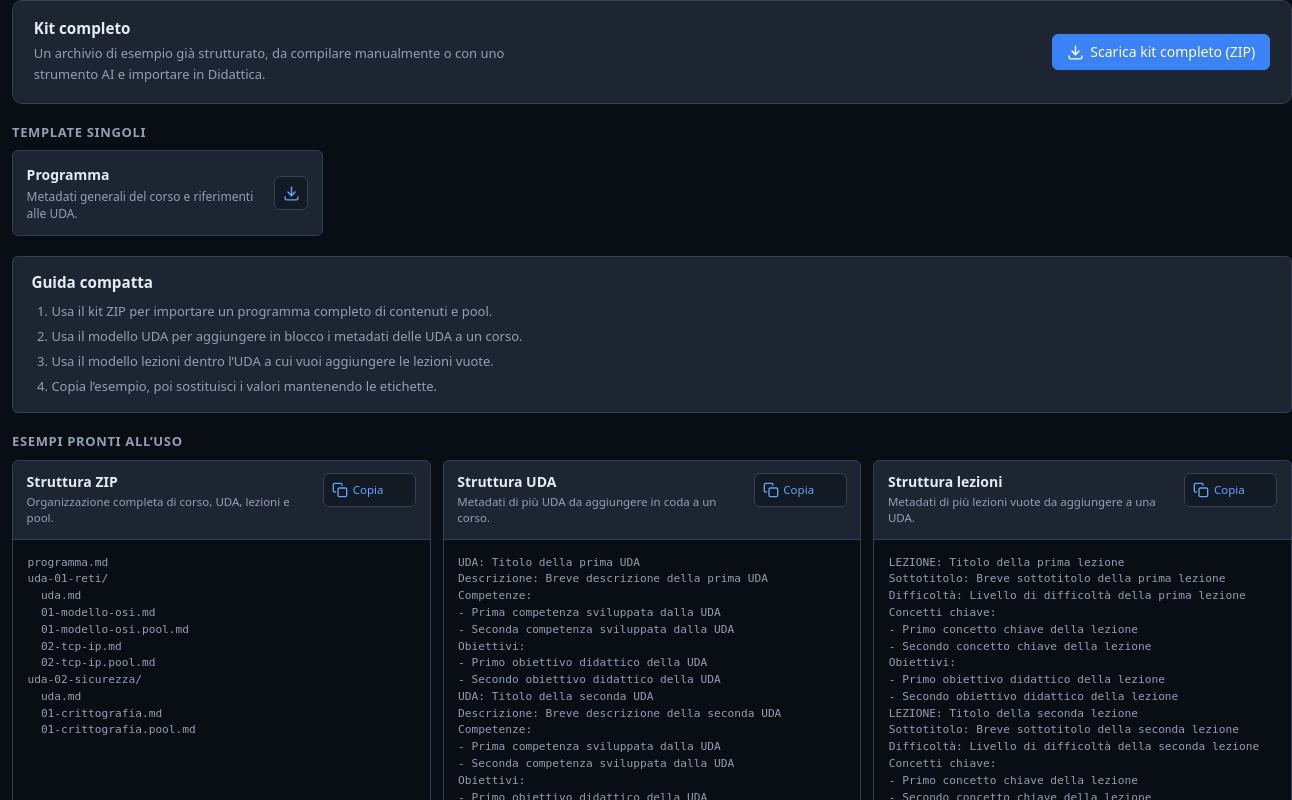
l’esito vive nel pulsante della card interessata › successo lezioni: solo quel pulsante cambia
Click the button "Copia" in the row of "Struttura lezioni": x=1231, y=490 [1184,473,1277,507]
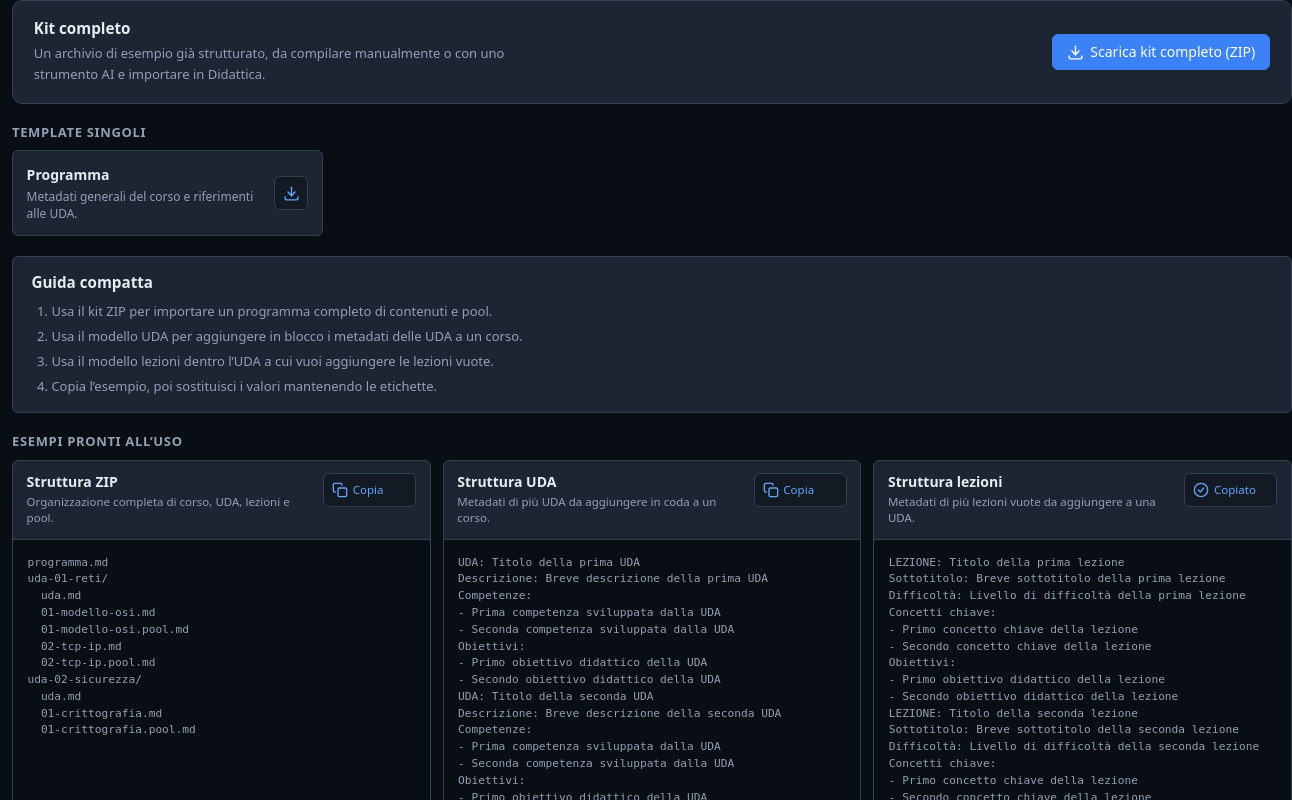
Expected: the text "Copia" in the row of "Struttura ZIP" is shown, [353,482,384,497]
Now the text "Copiato" is shown, box [1214,482,1256,497]
